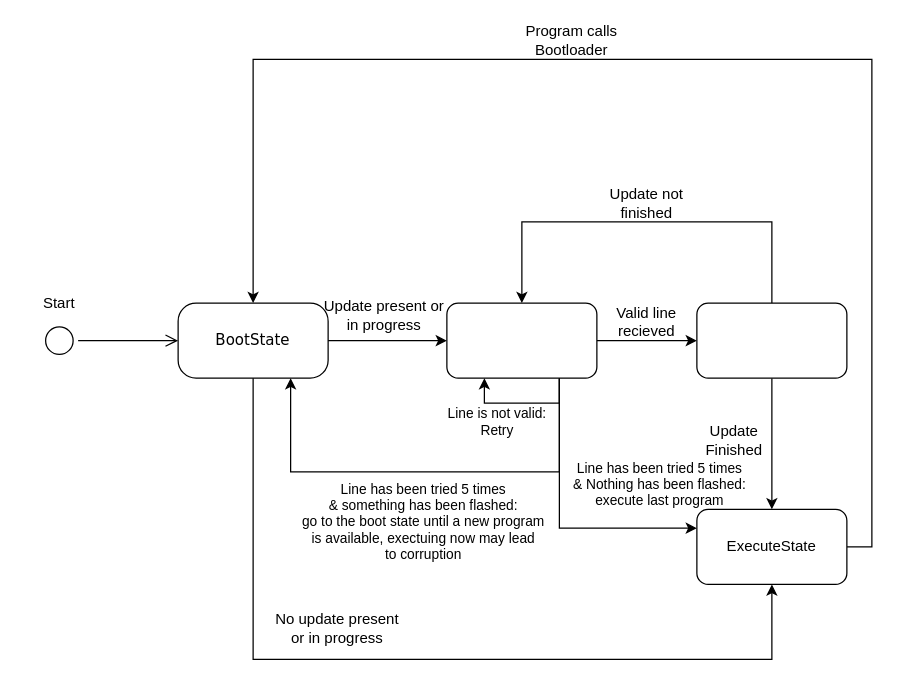
This 904x691 diagram has some shape labels left out. Each missing label, with the centre of its shape:
RecieveState: (521,340)
WriteState: (771,340)
